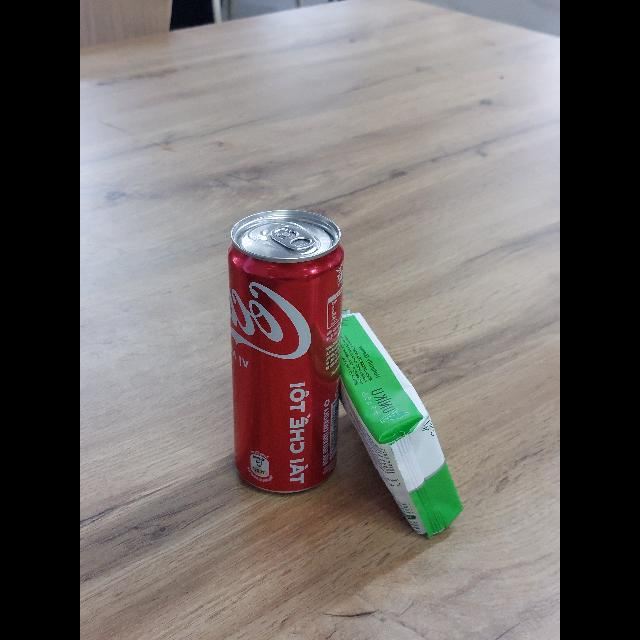coca_cola: (228, 210, 344, 492)
khan_giay: (340, 310, 462, 536)
